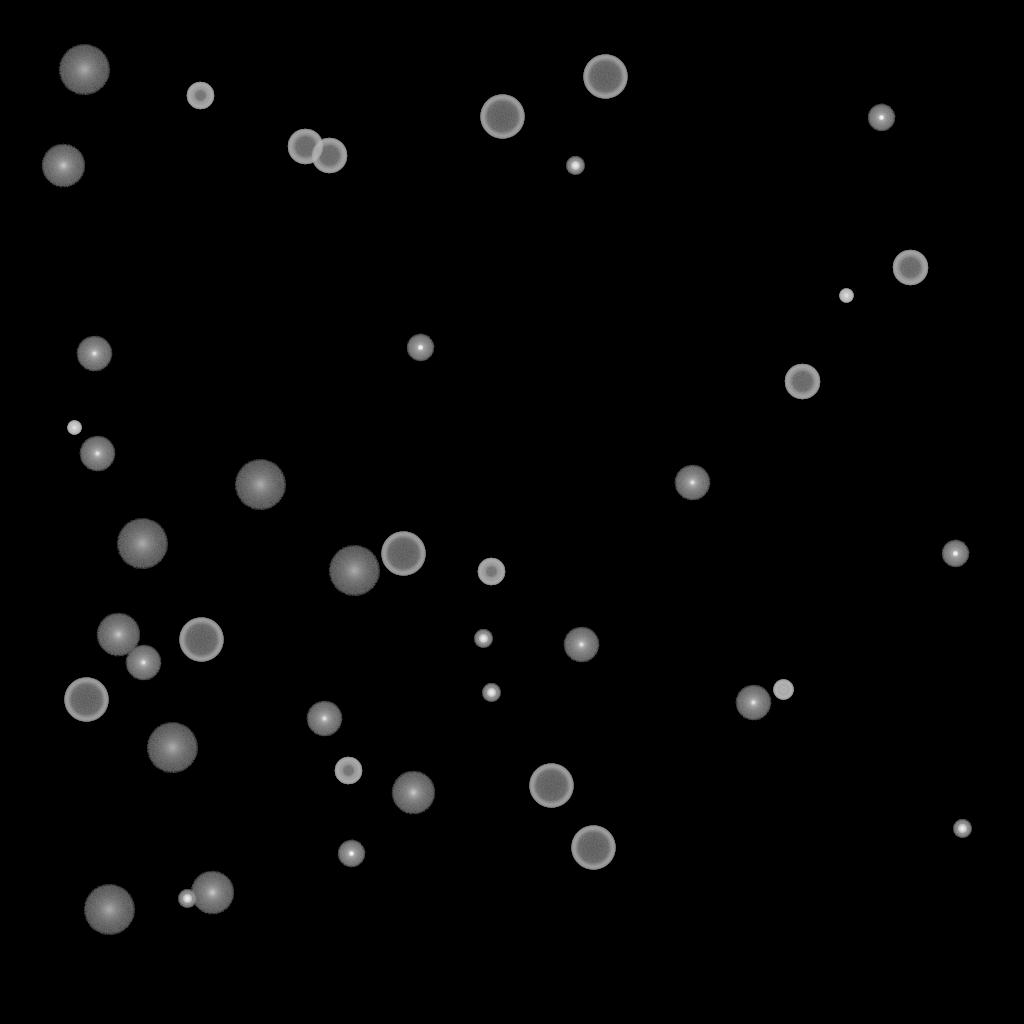depth:-10: (867, 104, 895, 132), (337, 840, 365, 868), (941, 540, 969, 568), (406, 334, 434, 362)
depth:-20: (953, 820, 971, 838), (566, 157, 584, 175), (474, 630, 492, 648), (178, 890, 196, 908), (482, 684, 500, 702)
depth:-30: (839, 289, 853, 303), (67, 421, 81, 435)
depth:-40: (773, 680, 793, 700)
depth:-50: (186, 82, 214, 110), (477, 558, 505, 586), (334, 757, 362, 785)
depth:-60: (287, 129, 323, 165), (311, 138, 347, 174), (784, 364, 820, 400), (892, 250, 928, 286)
depth:-70: (381, 532, 425, 576), (583, 55, 627, 99), (529, 764, 573, 808), (64, 678, 108, 722), (480, 95, 524, 139), (571, 826, 615, 870), (179, 618, 223, 662)
depth:0: (306, 701, 342, 737), (735, 685, 771, 721), (125, 645, 161, 681), (674, 465, 710, 501), (79, 436, 115, 472), (76, 336, 112, 372), (563, 627, 599, 663)
depth:10: (96, 613, 140, 657), (190, 871, 234, 915), (391, 771, 435, 815), (41, 144, 85, 188)
depth:20: (58, 45, 110, 95), (328, 546, 380, 596), (83, 885, 135, 935), (146, 723, 198, 773), (116, 519, 168, 569), (234, 460, 286, 510)
